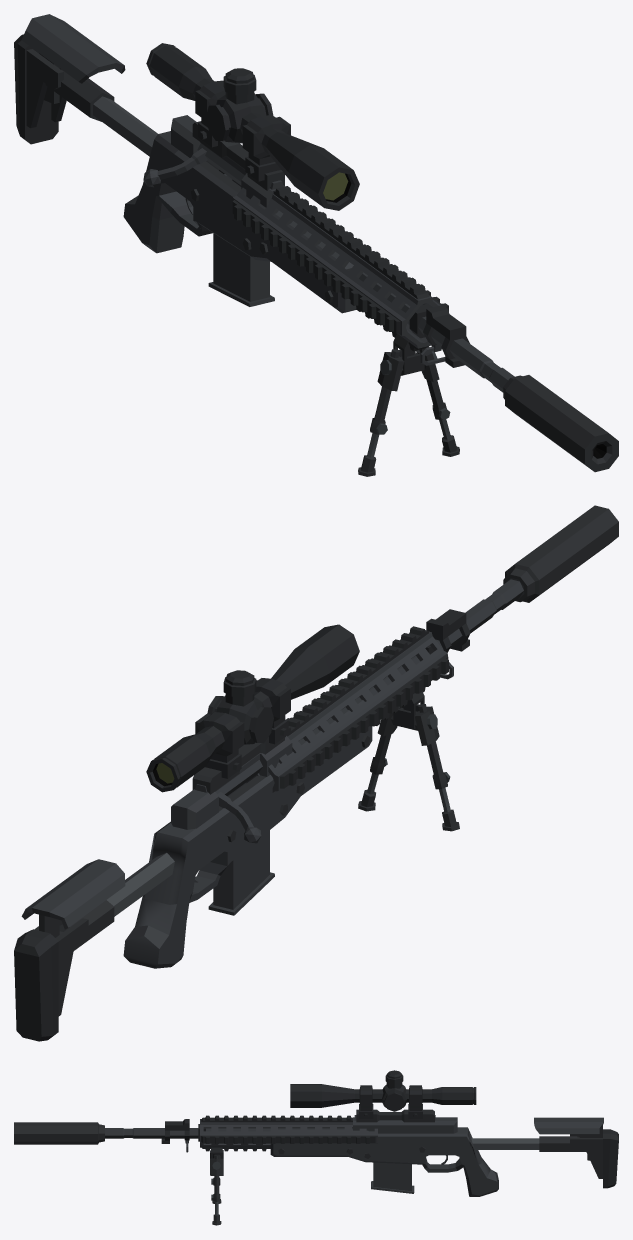
Rendered from SM_Wep_Sniper_01.fbx.
The picture shows the model from 3 angles, top to bottom: view 1: azimuth 30°, elevation 25°; view 2: azimuth 150°, elevation 25°; view 3: azimuth 270°, elevation 25°; orthographic projection. The views are drawn at different scales.
Visible parts, largest first — view 1: SM_Wep_Sniper_01, SM_Wep_Sniper_01_Bipod_Leg_R_01, SM_Wep_Sniper_01_Bipod_Leg_L_01; view 2: SM_Wep_Sniper_01, SM_Wep_Sniper_01_Bipod_Leg_R_01, SM_Wep_Sniper_01_Bipod_Leg_L_01; view 3: SM_Wep_Sniper_01, SM_Wep_Sniper_01_Bipod_Leg_L_01.
Boxes of the visible parts, x1,y1,x2,y2 form: SM_Wep_Sniper_01: [14, 14, 618, 472]; SM_Wep_Sniper_01_Bipod_Leg_R_01: [358, 349, 404, 476]; SM_Wep_Sniper_01_Bipod_Leg_L_01: [416, 346, 459, 456]; SM_Wep_Sniper_01: [14, 505, 618, 1041]; SM_Wep_Sniper_01_Bipod_Leg_R_01: [414, 704, 459, 831]; SM_Wep_Sniper_01_Bipod_Leg_L_01: [358, 706, 402, 811]; SM_Wep_Sniper_01: [14, 1070, 618, 1196]; SM_Wep_Sniper_01_Bipod_Leg_L_01: [210, 1155, 223, 1225].
Bounding box in the file's own units: 17.05 × 39.97 × 156.
Materials: 1 (1 with a texture image).
